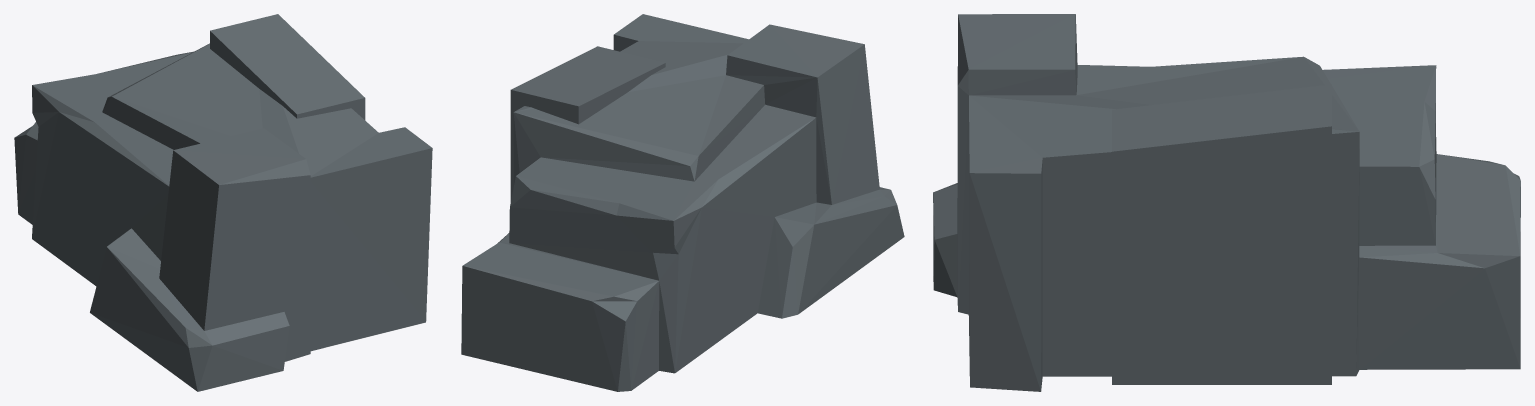
File: Rock_Layered_2.fbx
The picture shows the model from 3 angles, left to right: view 1: azimuth 30°, elevation 25°; view 2: azimuth 150°, elevation 25°; view 3: azimuth 270°, elevation 25°; orthographic projection. The views are drawn at different scales.
Visible parts, largest first — view 1: polySurface10336; view 2: polySurface10336; view 3: polySurface10336.
Boxes of the visible parts, bbox=[...] form: polySurface10336: bbox=[14, 14, 432, 391]; polySurface10336: bbox=[461, 14, 904, 391]; polySurface10336: bbox=[933, 14, 1520, 391].
Bounding box in the file's own units: 166 × 130 × 267.
